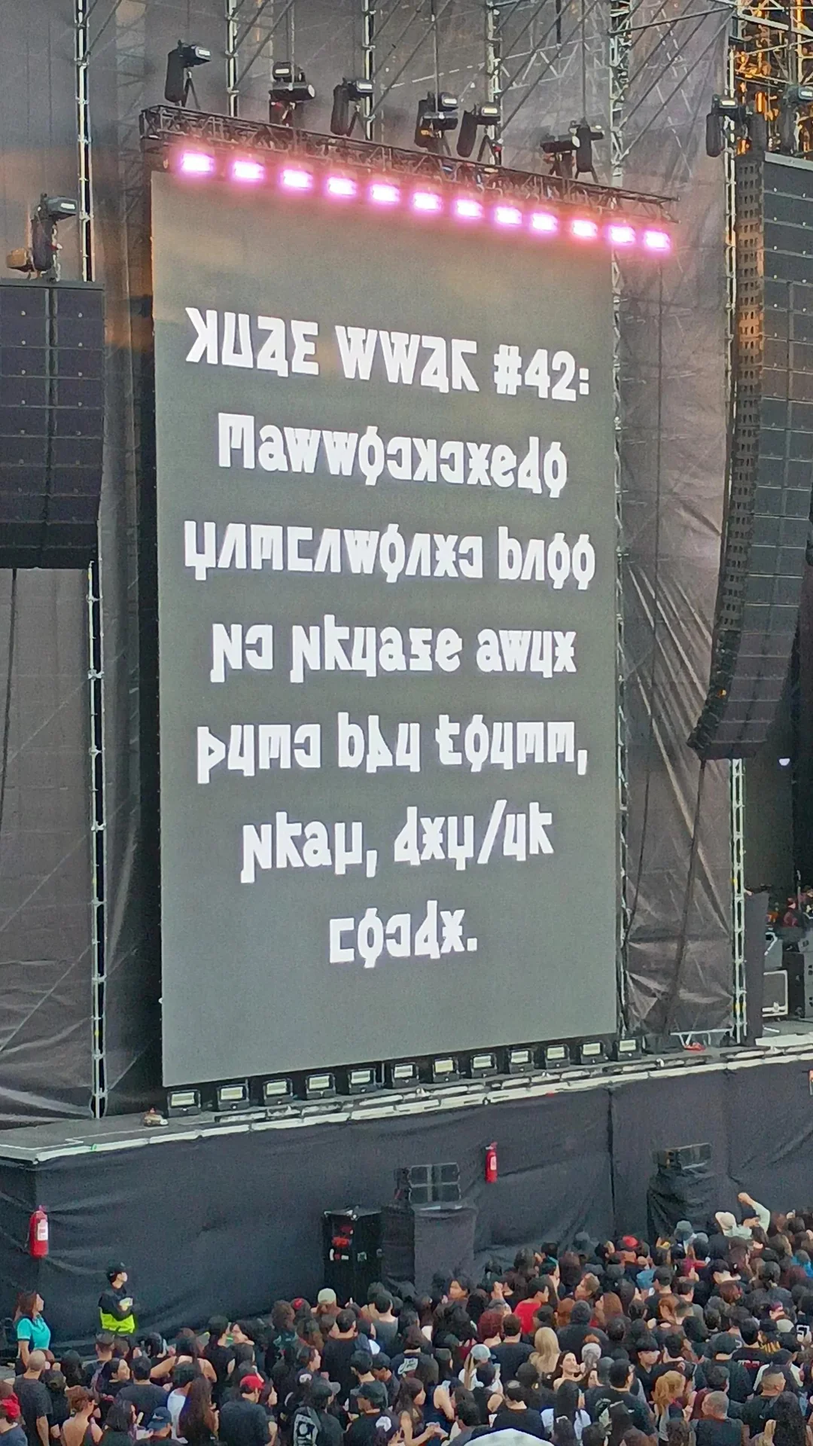2: (549, 348, 578, 406)
4: (523, 346, 552, 406)
A: (253, 314, 292, 379), (417, 333, 454, 395)
M: (180, 301, 222, 371)
O: (218, 309, 258, 373)
P: (332, 321, 379, 383), (376, 327, 423, 389)
R: (449, 335, 482, 398)
S: (215, 406, 258, 473)
T: (290, 317, 323, 378)
a: (391, 804, 422, 868), (412, 898, 443, 962), (514, 433, 544, 497)
b: (203, 621, 246, 687), (286, 625, 323, 684), (239, 820, 274, 880)
c: (282, 521, 317, 578), (326, 912, 357, 966)
d: (177, 518, 220, 585), (444, 811, 476, 873)
e: (243, 622, 278, 676), (384, 428, 415, 485), (292, 720, 325, 772), (385, 909, 415, 961), (456, 530, 486, 581), (437, 436, 466, 488)
f: (432, 712, 465, 768)
gh: (407, 623, 436, 677)
h: (363, 713, 395, 775)
i: (216, 519, 250, 573), (313, 524, 343, 580), (401, 527, 432, 581), (520, 536, 547, 585)
l: (376, 521, 408, 587), (355, 906, 385, 972), (540, 438, 570, 502), (462, 711, 492, 774), (357, 422, 385, 486), (545, 531, 571, 592), (570, 532, 596, 593)
m: (410, 433, 441, 489)
n: (437, 904, 474, 954), (430, 529, 461, 583), (418, 813, 449, 866), (464, 439, 493, 491), (552, 628, 580, 680)
o: (392, 717, 425, 775), (350, 621, 380, 682), (227, 722, 258, 781), (488, 718, 517, 775), (499, 810, 529, 865), (527, 627, 556, 680)
p: (283, 423, 325, 477), (320, 426, 359, 482), (342, 523, 381, 579), (498, 626, 533, 674)
r: (274, 810, 306, 870), (322, 613, 352, 673), (526, 799, 556, 857)
s: (247, 521, 289, 575), (257, 718, 294, 774), (544, 717, 575, 769), (515, 718, 546, 769)
sh: (332, 818, 363, 875)
t: (433, 624, 463, 679), (488, 440, 518, 492)
th: (195, 724, 229, 786)
u: (256, 422, 290, 476), (302, 819, 334, 872), (377, 622, 407, 677), (476, 625, 506, 676)
w: (334, 709, 366, 771), (494, 522, 523, 584)
